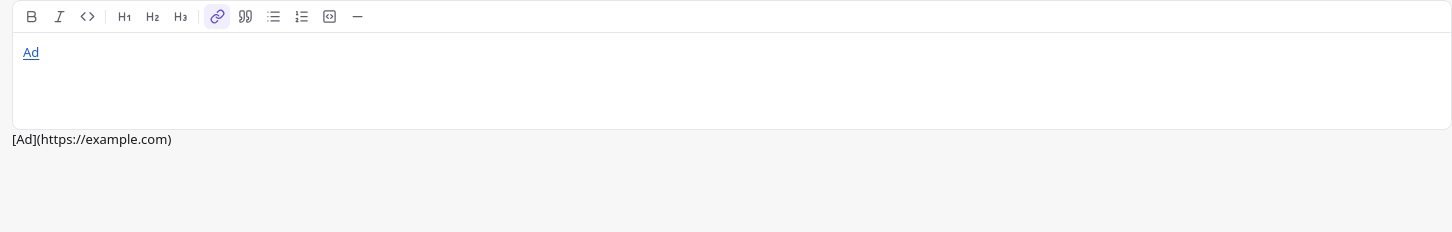
Test: offers an explicit Open action only for allowlisted destinations
This screenshot has width=1452, height=232.
Double-click the link "Ad": (31, 52) [23, 43, 39, 61]
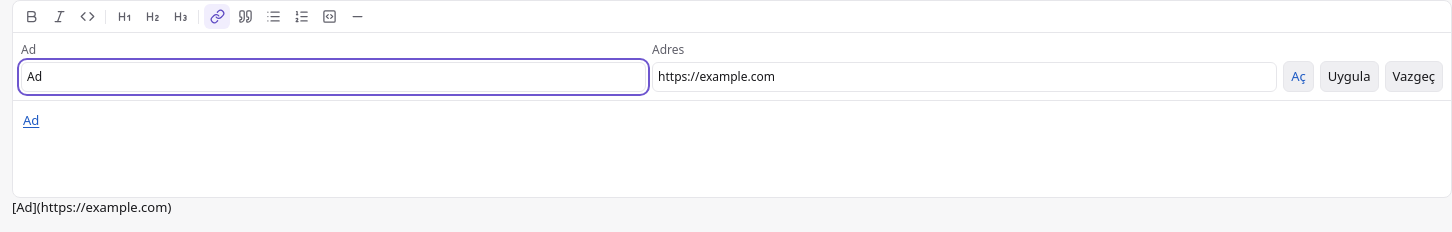
Replace the text in the field named "Bağlantı adresi" with "javascript:alert(1)": (965, 77) [652, 62, 1277, 92]
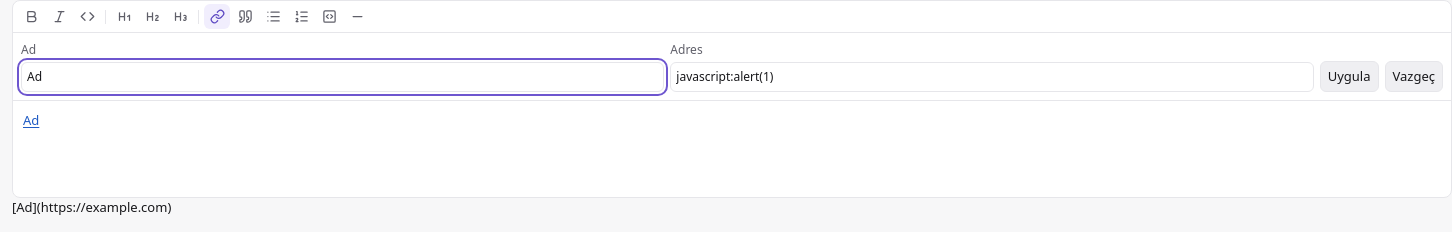
Now the link "Aç" is gone
